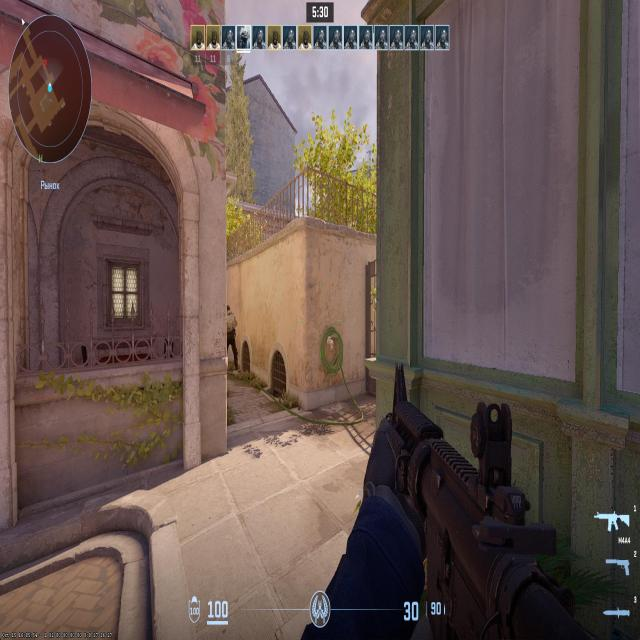T: (228, 303, 235, 362)
T_heat: (227, 305, 232, 315)
